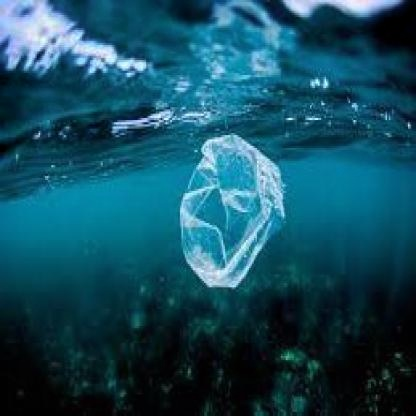pbag: (180, 133, 284, 285)
